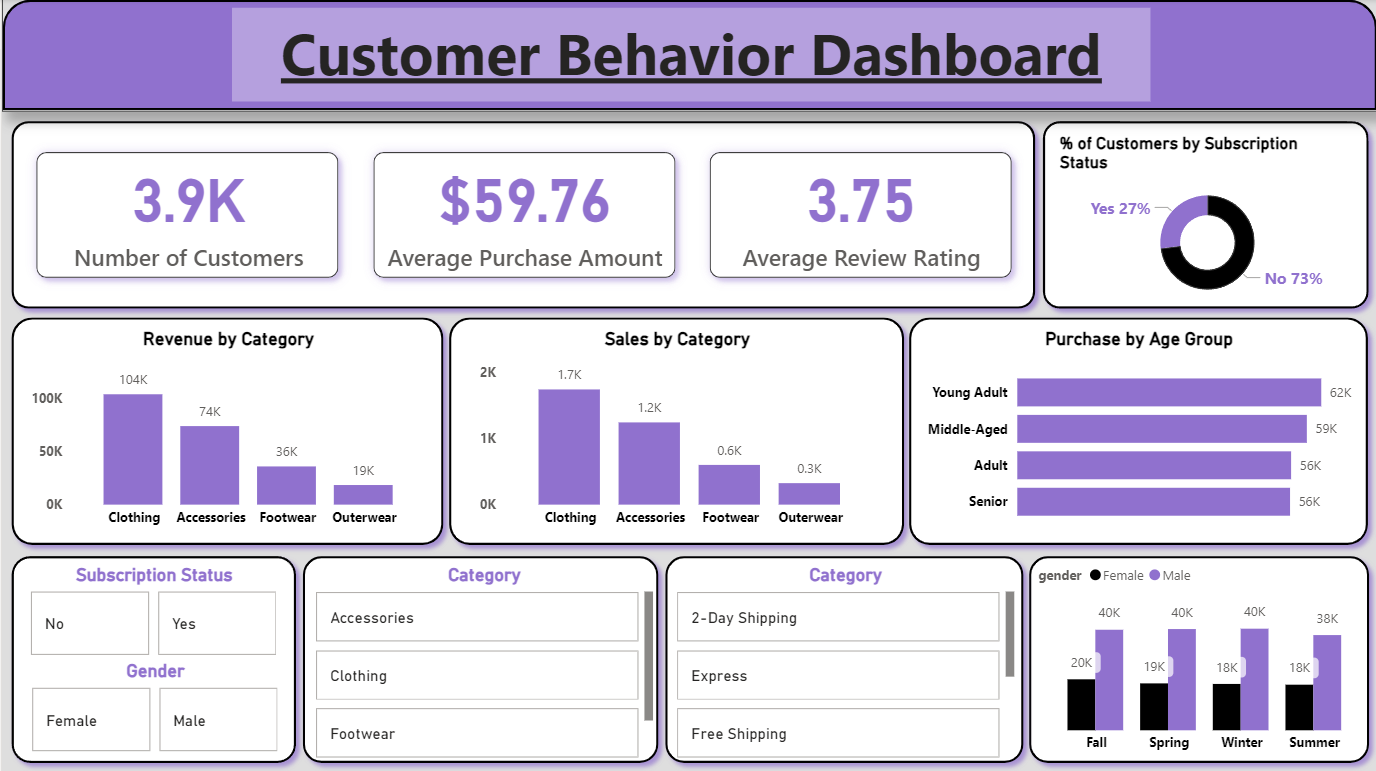

The dashboard page shown, as its layout file describes it:
{"tool":"powerbi","page":{"name":"Page 1","canvas":[1280,720],"ordinal":0},"visuals":[{"type":"shape","box":[946.1,509.7,334.2,210.4],"z":0},{"type":"shape","box":[0,509.7,282.5,210.4],"z":1000},{"type":"shape","box":[0,287.3,419.5,229.6],"z":2000},{"type":"shape","box":[959.3,104.6,321,192.3],"z":3000},{"type":"shape","box":[0,104.6,970.1,192.3],"z":4000},{"type":"shape","box":[0,0,1280.2,104.7],"z":5000},{"type":"cardVisual","fields":{"Data":["customer_data_behaviour_pandas.Number of Customers","customer_data_behaviour_pandas.Average Purchase Amount","customer_data_behaviour_pandas.Average Review Rating"]},"box":[15.6,125,943.7,151.5],"z":6000},{"type":"textbox","box":[214,8.1,854.7,87.2],"z":7000},{"type":"donutChart","title":"% of Customers by Subscription Status","fields":{"Y":["CountNonNull(customer_data_behaviour_pandas.subscription_status)"],"Category":["customer_data_behaviour_pandas.subscription_status"]},"box":[978.5,125,284.9,162.3],"z":8000},{"type":"clusteredColumnChart","title":"Revenue by Category","fields":{"Y":["Sum(customer_data_behaviour_pandas.purchase_amount)"],"Category":["customer_data_behaviour_pandas.category"]},"box":[21.6,305.3,377.5,194.7],"z":9000},{"type":"shape","box":[407.5,287.3,441.2,229.6],"z":10000},{"type":"clusteredColumnChart","title":"Sales by Category","fields":{"Y":["CountNonNull(customer_data_behaviour_pandas.customer_id)"],"Category":["customer_data_behaviour_pandas.category"]},"box":[440,305.3,377.5,194.7],"z":11000},{"type":"advancedSlicerVisual","title":"Subscription Status","fields":{"Values":["customer_data_behaviour_pandas.subscription_status"]},"box":[21.6,525.3,239.2,90.2],"z":12000},{"type":"advancedSlicerVisual","title":"Gender","fields":{"Values":["customer_data_behaviour_pandas.gender"]},"box":[22.8,615.5,239.2,90.2],"z":13000},{"type":"shape","box":[835.5,287.3,444.8,229.6],"z":14000},{"type":"shape","box":[270.5,509.7,348.6,210.4],"z":15000},{"type":"advancedSlicerVisual","title":"Category","fields":{"Values":["customer_data_behaviour_pandas.category"]},"box":[287.3,525.3,323.4,185.1],"z":16000},{"type":"shape","box":[608.3,509.7,351,210.4],"z":17000},{"type":"advancedSlicerVisual","title":"Category","fields":{"Values":["customer_data_behaviour_pandas.shipping_type"]},"box":[622.7,525.3,323.4,185.1],"z":18000},{"type":"clusteredBarChart","title":"Purchase by Age Group","fields":{"Y":["Sum(customer_data_behaviour_pandas.purchase_amount)"],"Category":["customer_data_behaviour_pandas.age_group"]},"box":[854.7,305.3,406.3,194.7],"z":19000},{"type":"lineClusteredColumnComboChart","fields":{"Category":["customer_data_behaviour_pandas.season"],"Y":["Sum(customer_data_behaviour_pandas.purchase_amount)"],"Series":["customer_data_behaviour_pandas.gender"]},"box":[959.3,516.3,320.9,194.2],"z":20000}]}

Visuals, with their boxes in screenshot pixels (x1, y1, x2, y2), scaled from the page's 1280x720 canvas onto the 1376x771 screenshot:
shape: crop(1017, 546, 1375, 770)
shape: crop(0, 546, 304, 770)
shape: crop(0, 308, 451, 554)
shape: crop(1031, 112, 1375, 318)
shape: crop(0, 112, 1043, 318)
shape: crop(0, 0, 1375, 112)
cardVisual - customer_data_behaviour_pandas.Number of Customers x customer_data_behaviour_pandas.Average Purchase Amount: crop(17, 134, 1031, 296)
textbox: crop(230, 9, 1149, 102)
"% of Customers by Subscription Status" donutChart: crop(1052, 134, 1358, 308)
"Revenue by Category" clusteredColumnChart: crop(23, 327, 429, 535)
shape: crop(438, 308, 912, 554)
"Sales by Category" clusteredColumnChart: crop(473, 327, 879, 535)
"Subscription Status" advancedSlicerVisual: crop(23, 563, 280, 659)
"Gender" advancedSlicerVisual: crop(25, 659, 282, 756)
shape: crop(898, 308, 1375, 554)
shape: crop(291, 546, 666, 770)
"Category" advancedSlicerVisual: crop(309, 563, 657, 761)
shape: crop(654, 546, 1031, 770)
"Category" advancedSlicerVisual: crop(669, 563, 1017, 761)
"Purchase by Age Group" clusteredBarChart: crop(919, 327, 1356, 535)
lineClusteredColumnComboChart - customer_data_behaviour_pandas.season x Sum(customer_data_behaviour_pandas.purchase_amount): crop(1031, 553, 1375, 761)
